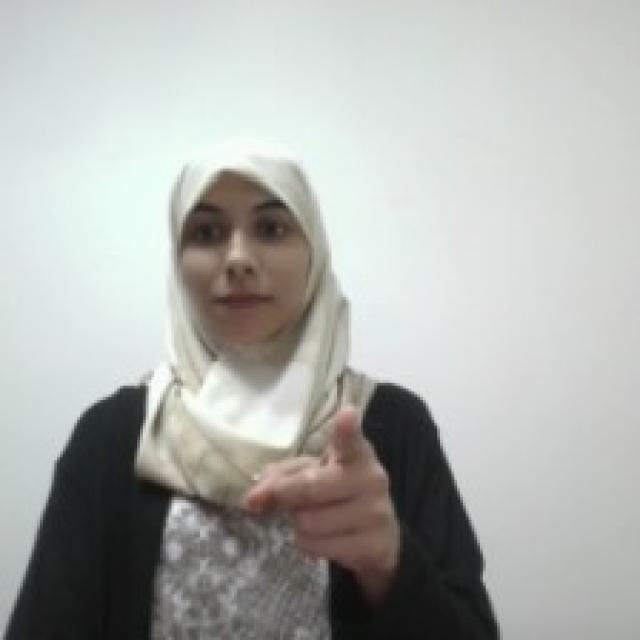you: (241, 400, 401, 574)
